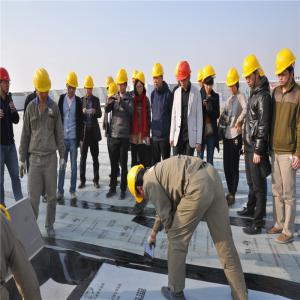red: (178, 59, 192, 89), (2, 66, 12, 96)
yellow: (276, 48, 296, 88), (128, 165, 148, 204), (34, 68, 53, 103), (243, 54, 262, 89), (227, 68, 242, 96), (152, 63, 165, 93), (66, 71, 79, 98), (117, 69, 130, 96), (203, 66, 215, 93), (135, 73, 147, 98), (85, 77, 96, 98), (106, 76, 114, 93), (198, 71, 205, 89)
